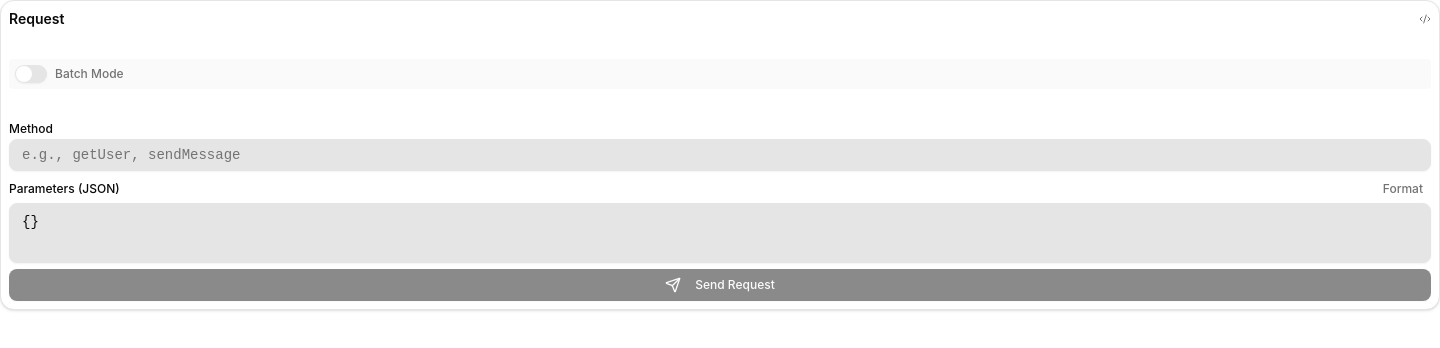
Test: RequestForm validation (zod-backed) › single: shows non-object/array error and blocks send
Step 1. Type "doit" into the field with placeholder "e.g., getUser, sendMessage" → (720, 155), box [9,139,1431,171]
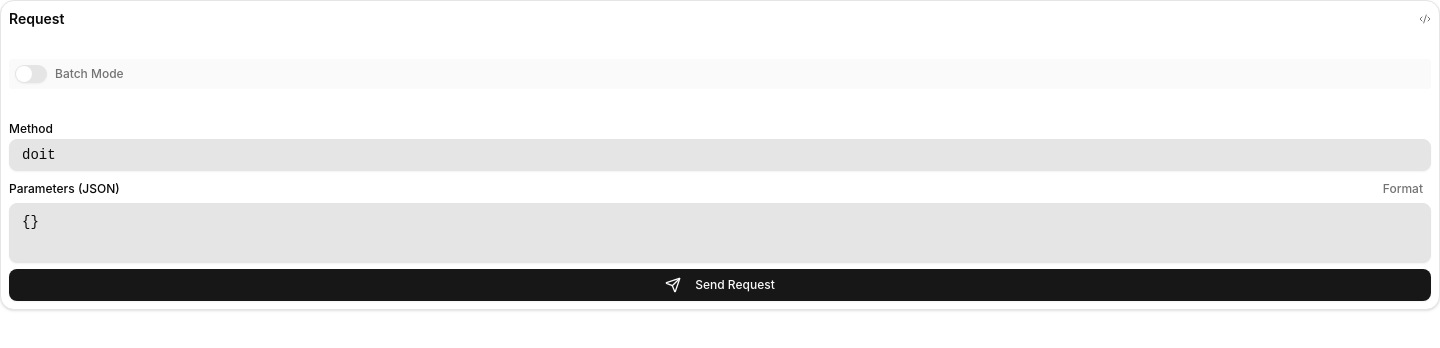
Step 2. Replace the text in the text box with placeholder "{\"key\": \"value\"}" with "\"hello\"" → (720, 233), box [9,203,1431,263]
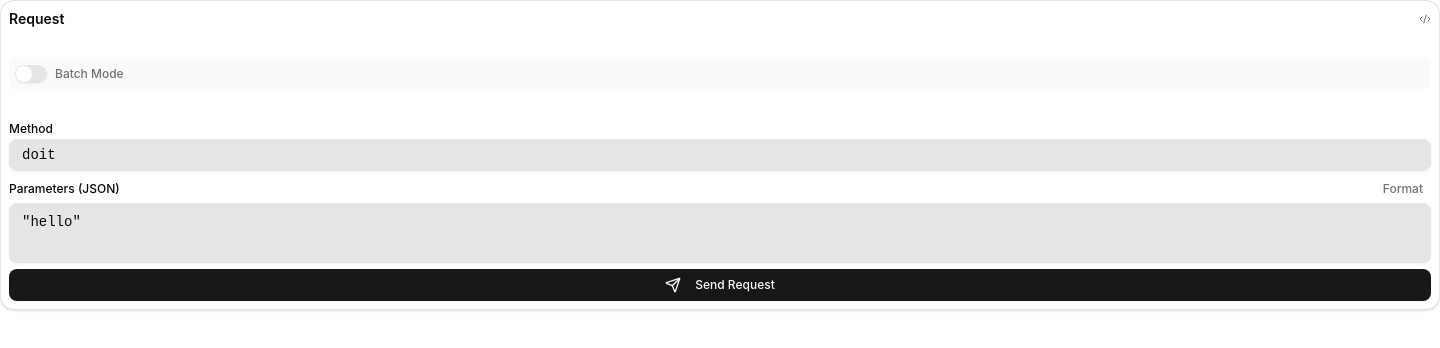
Step 3. Click the button "Send Request" → (720, 285), box [9,269,1431,301]
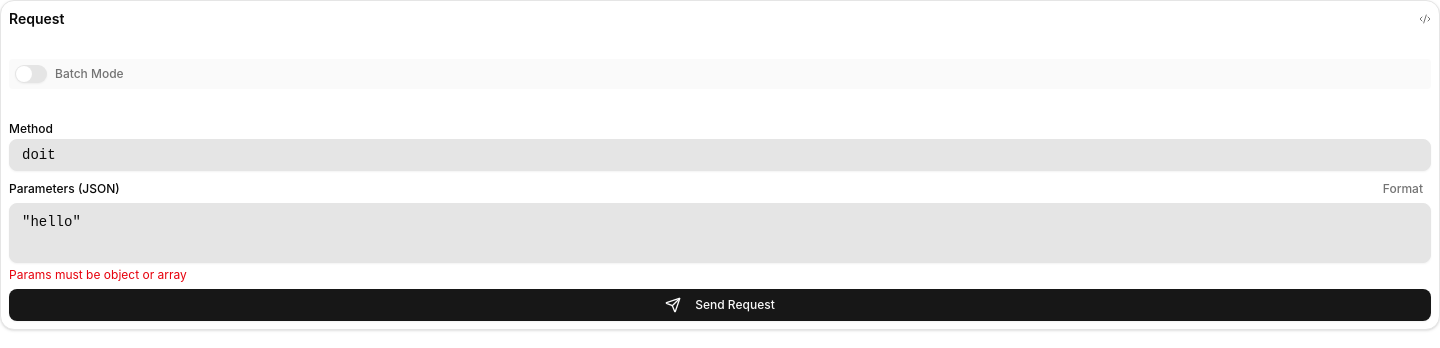
Expected: the text "Params must be object or array" is shown, [9,267,187,282]
